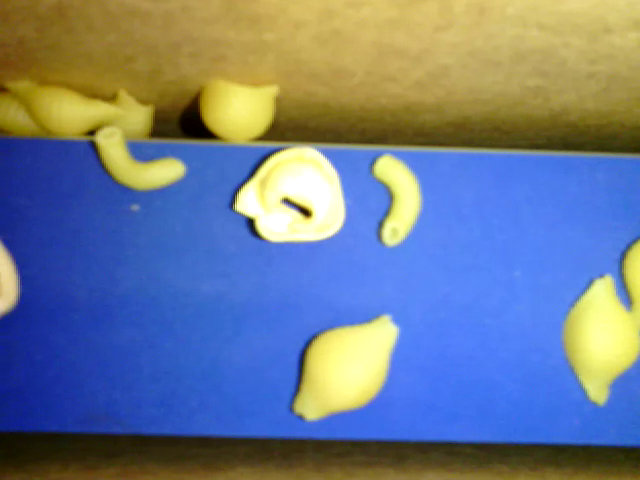elbow: (93, 121, 189, 190), (369, 148, 422, 247)
shell: (289, 313, 400, 421), (563, 272, 639, 405), (1, 78, 121, 134), (198, 77, 279, 142), (106, 86, 153, 138), (1, 90, 53, 134), (619, 230, 639, 306)
tortellini: (224, 143, 344, 245)
